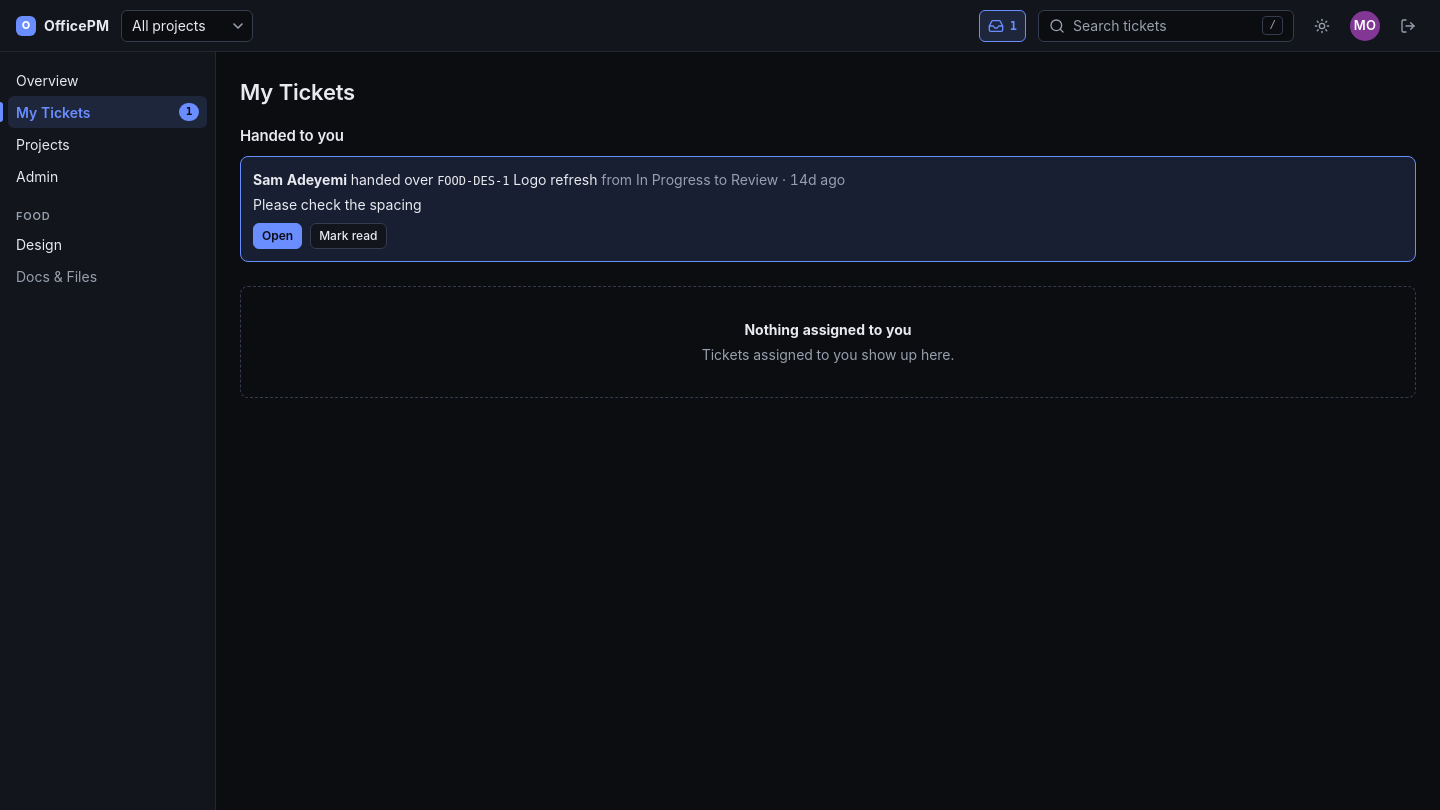
Test: handoffs addressed to me › can be marked read without opening the ticket
What coordinates should you click on to do the following:
click the button with aria-label "Mark read FOOD-DES-1"
I would click on:
 (348, 236)
Its box is [310,222,386,248].
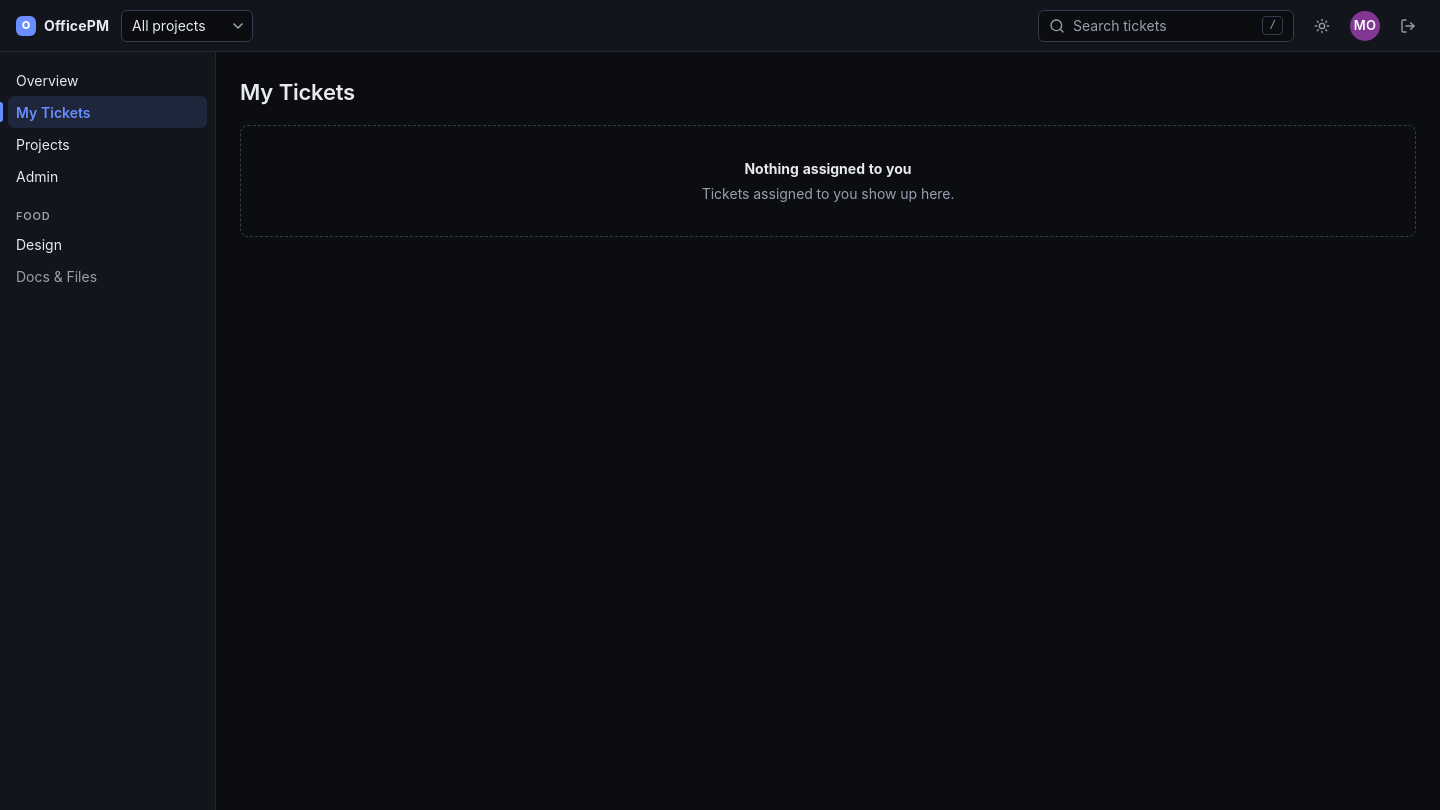
Expected: the heading "Handed to you" is gone
